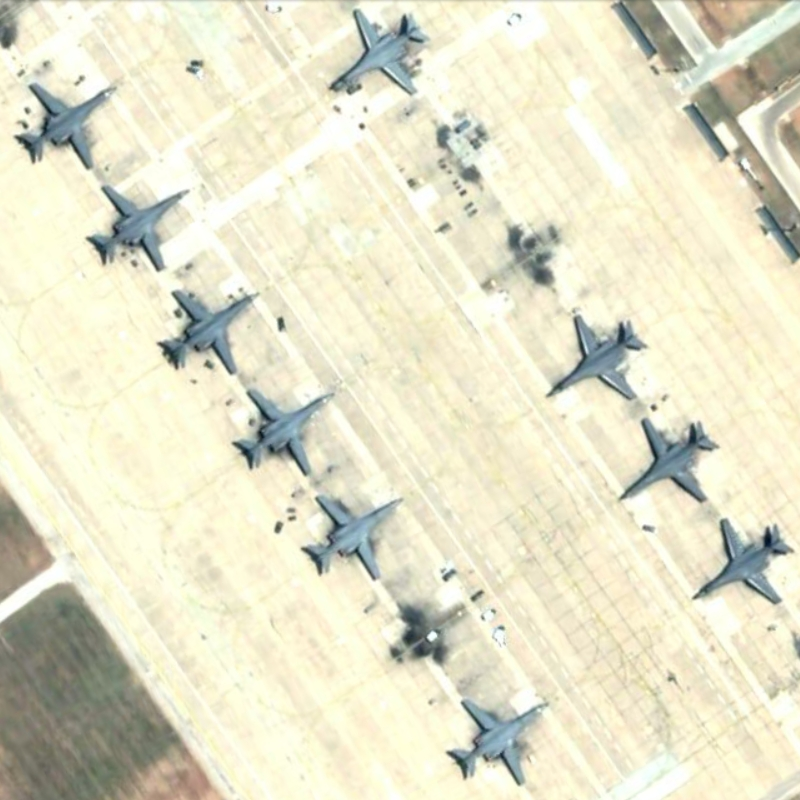A10: (82, 175, 197, 279), (321, 3, 443, 101), (294, 488, 414, 584), (15, 64, 119, 174), (226, 382, 342, 479), (539, 304, 648, 402), (685, 514, 797, 608), (155, 279, 256, 378), (616, 411, 724, 503), (445, 694, 550, 788)
